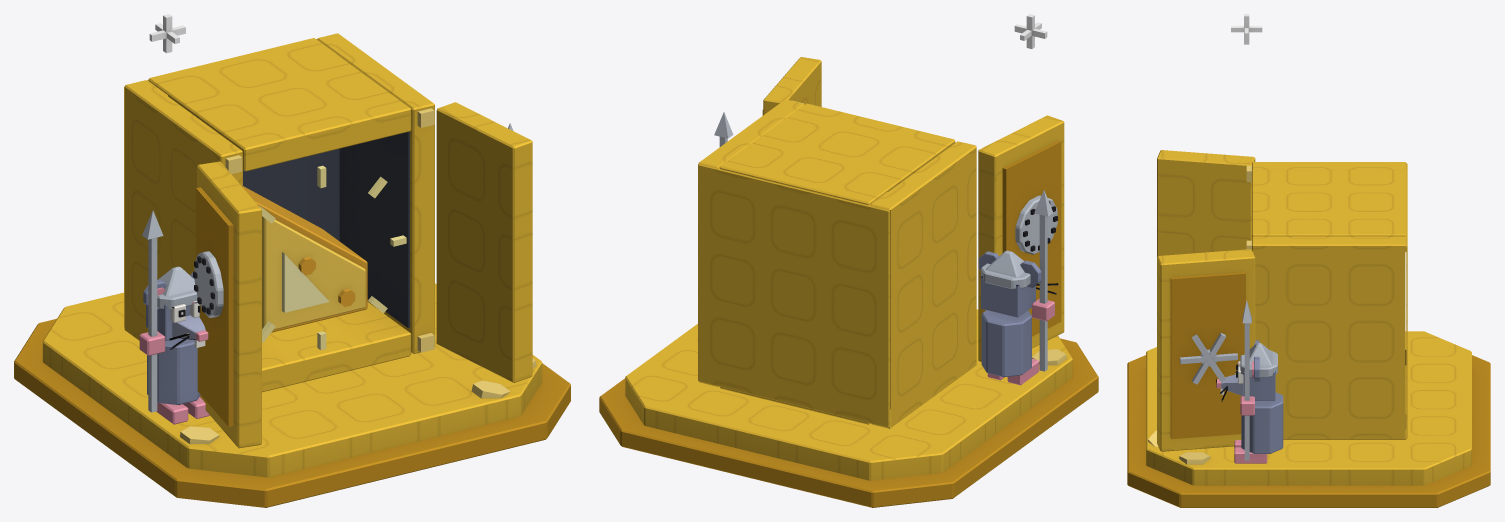
The model's file is CheeseVaultHeart.fbx.
3 views of the same model, side by side, from view 1: azimuth 30°, elevation 25°; view 2: azimuth 150°, elevation 25°; view 3: azimuth 270°, elevation 25° (orthographic). The views are drawn at different scales.
Visible parts, largest first — view 1: Art_CheeseVaultHeart_Body, Art_CheeseVaultHeart_Stand, Art_CheeseVaultHeart_DoorR, Art_CheeseVaultHeart_DoorL, Art_CheeseVaultHeart_Crystal, Art_CheeseVaultHeart_GuardL; view 2: Art_CheeseVaultHeart_Body, Art_CheeseVaultHeart_Stand, Art_CheeseVaultHeart_DoorL, Art_CheeseVaultHeart_GuardL, Art_CheeseVaultHeart_DoorR; view 3: Art_CheeseVaultHeart_Body, Art_CheeseVaultHeart_Stand, Art_CheeseVaultHeart_DoorR, Art_CheeseVaultHeart_DoorL, Art_CheeseVaultHeart_GuardR.
Part boxes in pixels (<box>): Art_CheeseVaultHeart_Body: <box>124,33,434,392</box>; Art_CheeseVaultHeart_Stand: <box>14,14,570,507</box>; Art_CheeseVaultHeart_DoorR: <box>436,102,532,382</box>; Art_CheeseVaultHeart_DoorL: <box>193,161,261,448</box>; Art_CheeseVaultHeart_Crystal: <box>243,165,406,350</box>; Art_CheeseVaultHeart_GuardL: <box>139,210,209,424</box>; Art_CheeseVaultHeart_Body: <box>698,99,976,428</box>; Art_CheeseVaultHeart_Stand: <box>599,14,1098,507</box>; Art_CheeseVaultHeart_DoorL: <box>978,115,1064,362</box>; Art_CheeseVaultHeart_GuardL: <box>978,190,1058,385</box>; Art_CheeseVaultHeart_DoorR: <box>762,57,821,115</box>; Art_CheeseVaultHeart_Body: <box>1246,162,1407,439</box>; Art_CheeseVaultHeart_Stand: <box>1127,14,1490,507</box>; Art_CheeseVaultHeart_DoorR: <box>1157,249,1255,451</box>; Art_CheeseVaultHeart_DoorL: <box>1157,150,1255,256</box>; Art_CheeseVaultHeart_GuardR: <box>1216,300,1283,463</box>.
Bounding box in the file's own units: 3.5 × 3.75 × 3.5.
